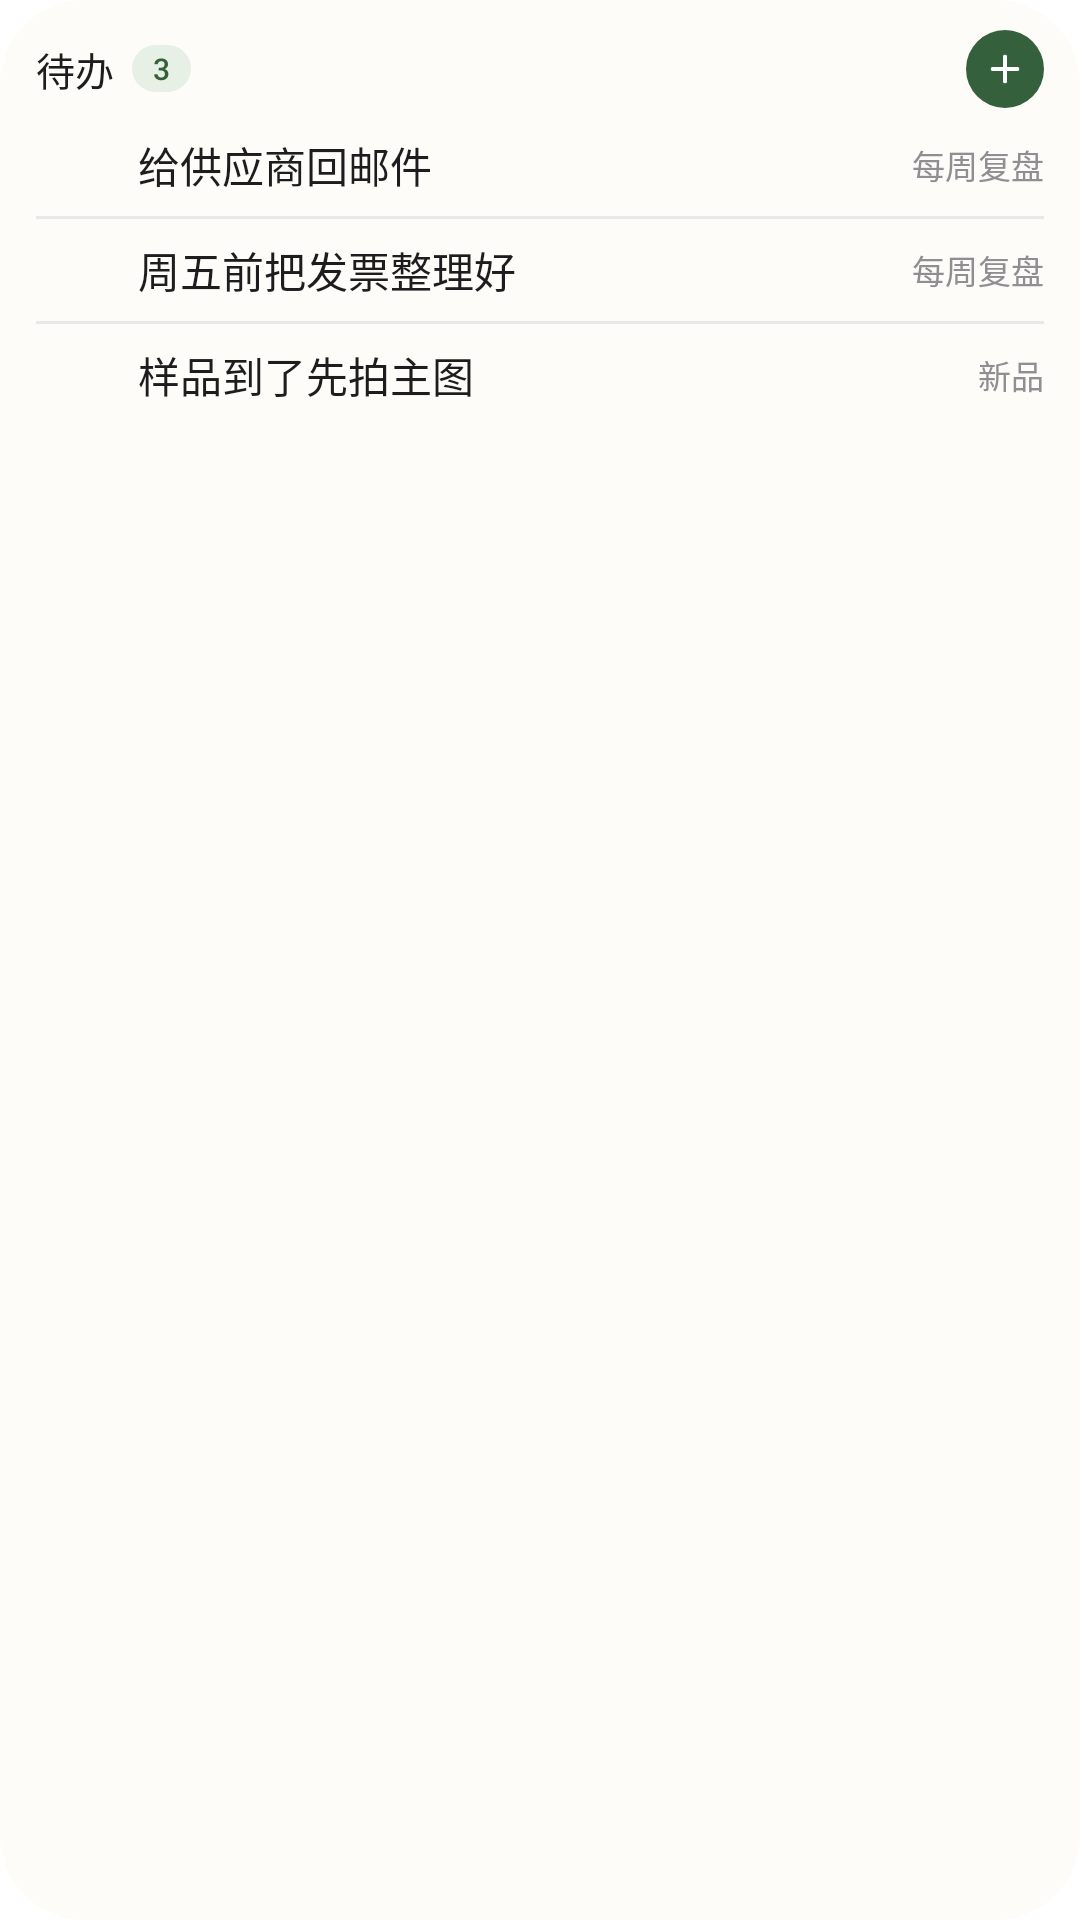

Icons on this 1080w x 1920h Android screen, each with its box as (x1, y1, x2, y2):
ivw plus: (966, 30, 1044, 108)
